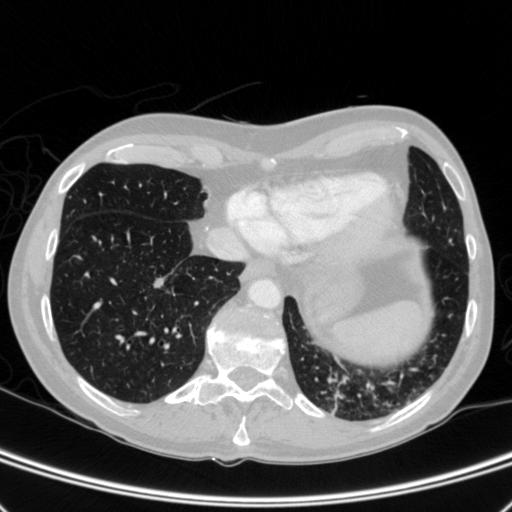nodule: (151, 276, 167, 292)
